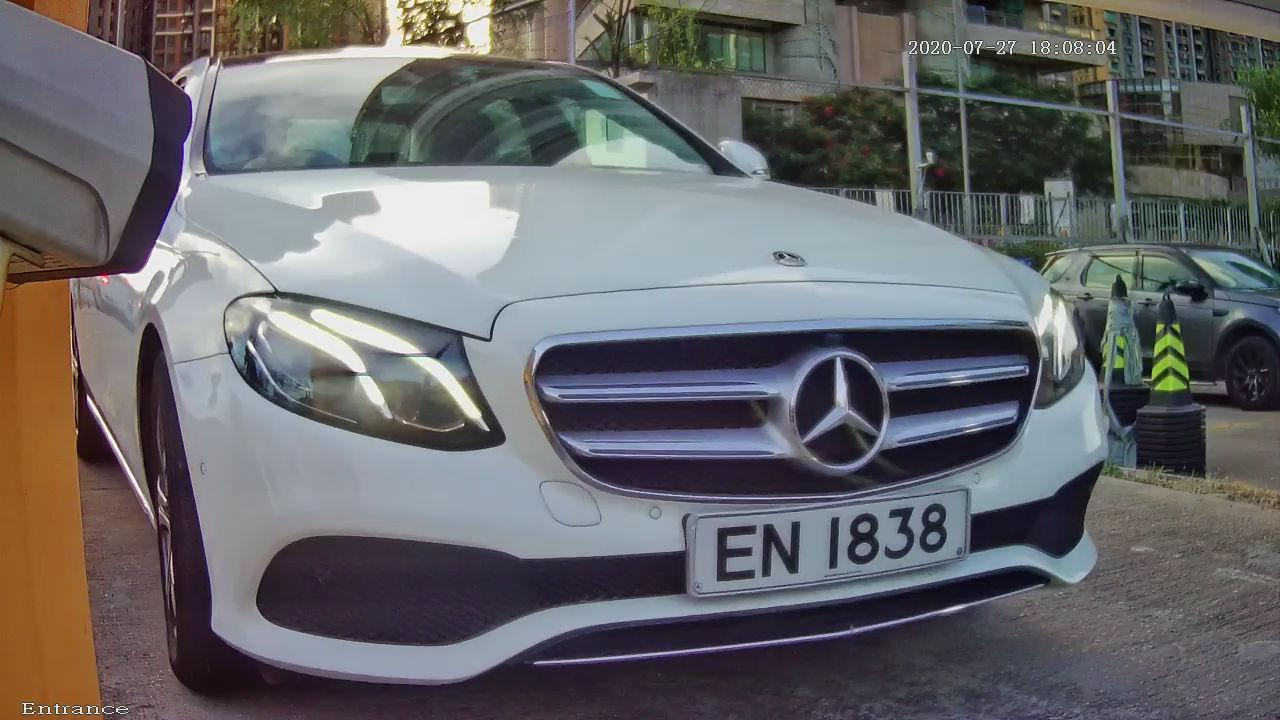privatecar: (86, 23, 1149, 685)
